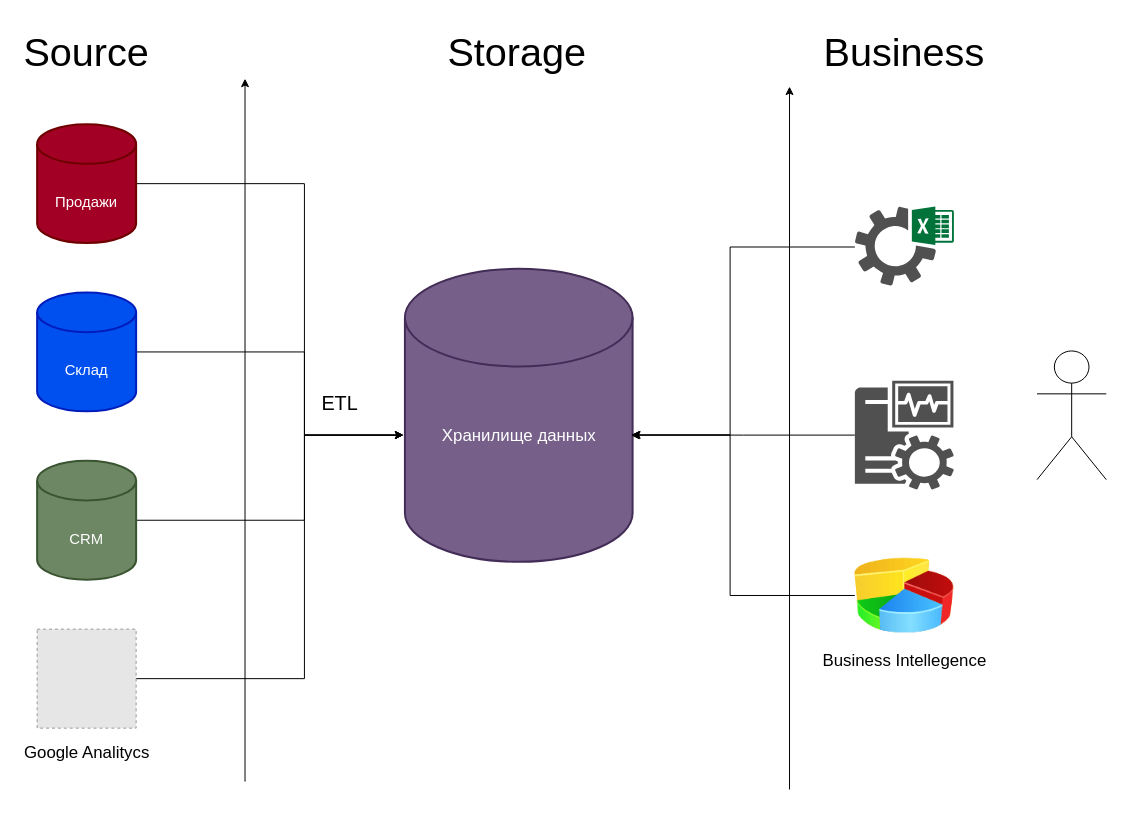
Some shapes in this 1142 by 815 pixel diagram are drawn without their labels. Grey dashed boxes stand in for pictures. The shapes that lost their labels are listed below. From the top down, each one's centre as x and y in pixels, then its label:
At point (903, 245): "Excel".
At point (903, 434): "SQL".
At point (1071, 415): "Пользователь".
